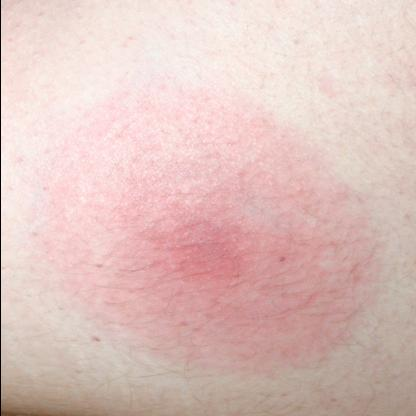Tick: (30, 77, 371, 374)
